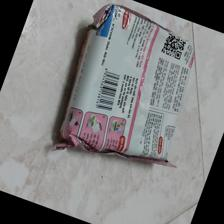Haohao: (53, 4, 197, 173)
